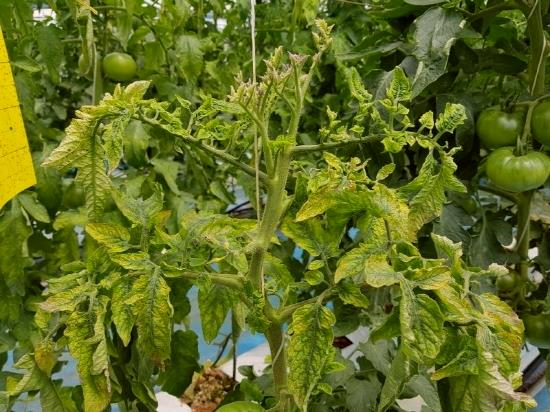Tomato leaf yellow virus: (470, 289, 544, 405), (283, 292, 340, 408), (124, 267, 179, 380), (60, 299, 114, 412), (391, 155, 460, 238), (395, 289, 443, 375), (196, 279, 238, 347), (292, 180, 340, 235), (326, 239, 385, 282), (31, 281, 102, 316), (73, 223, 136, 252), (360, 256, 403, 290), (420, 263, 454, 296)
